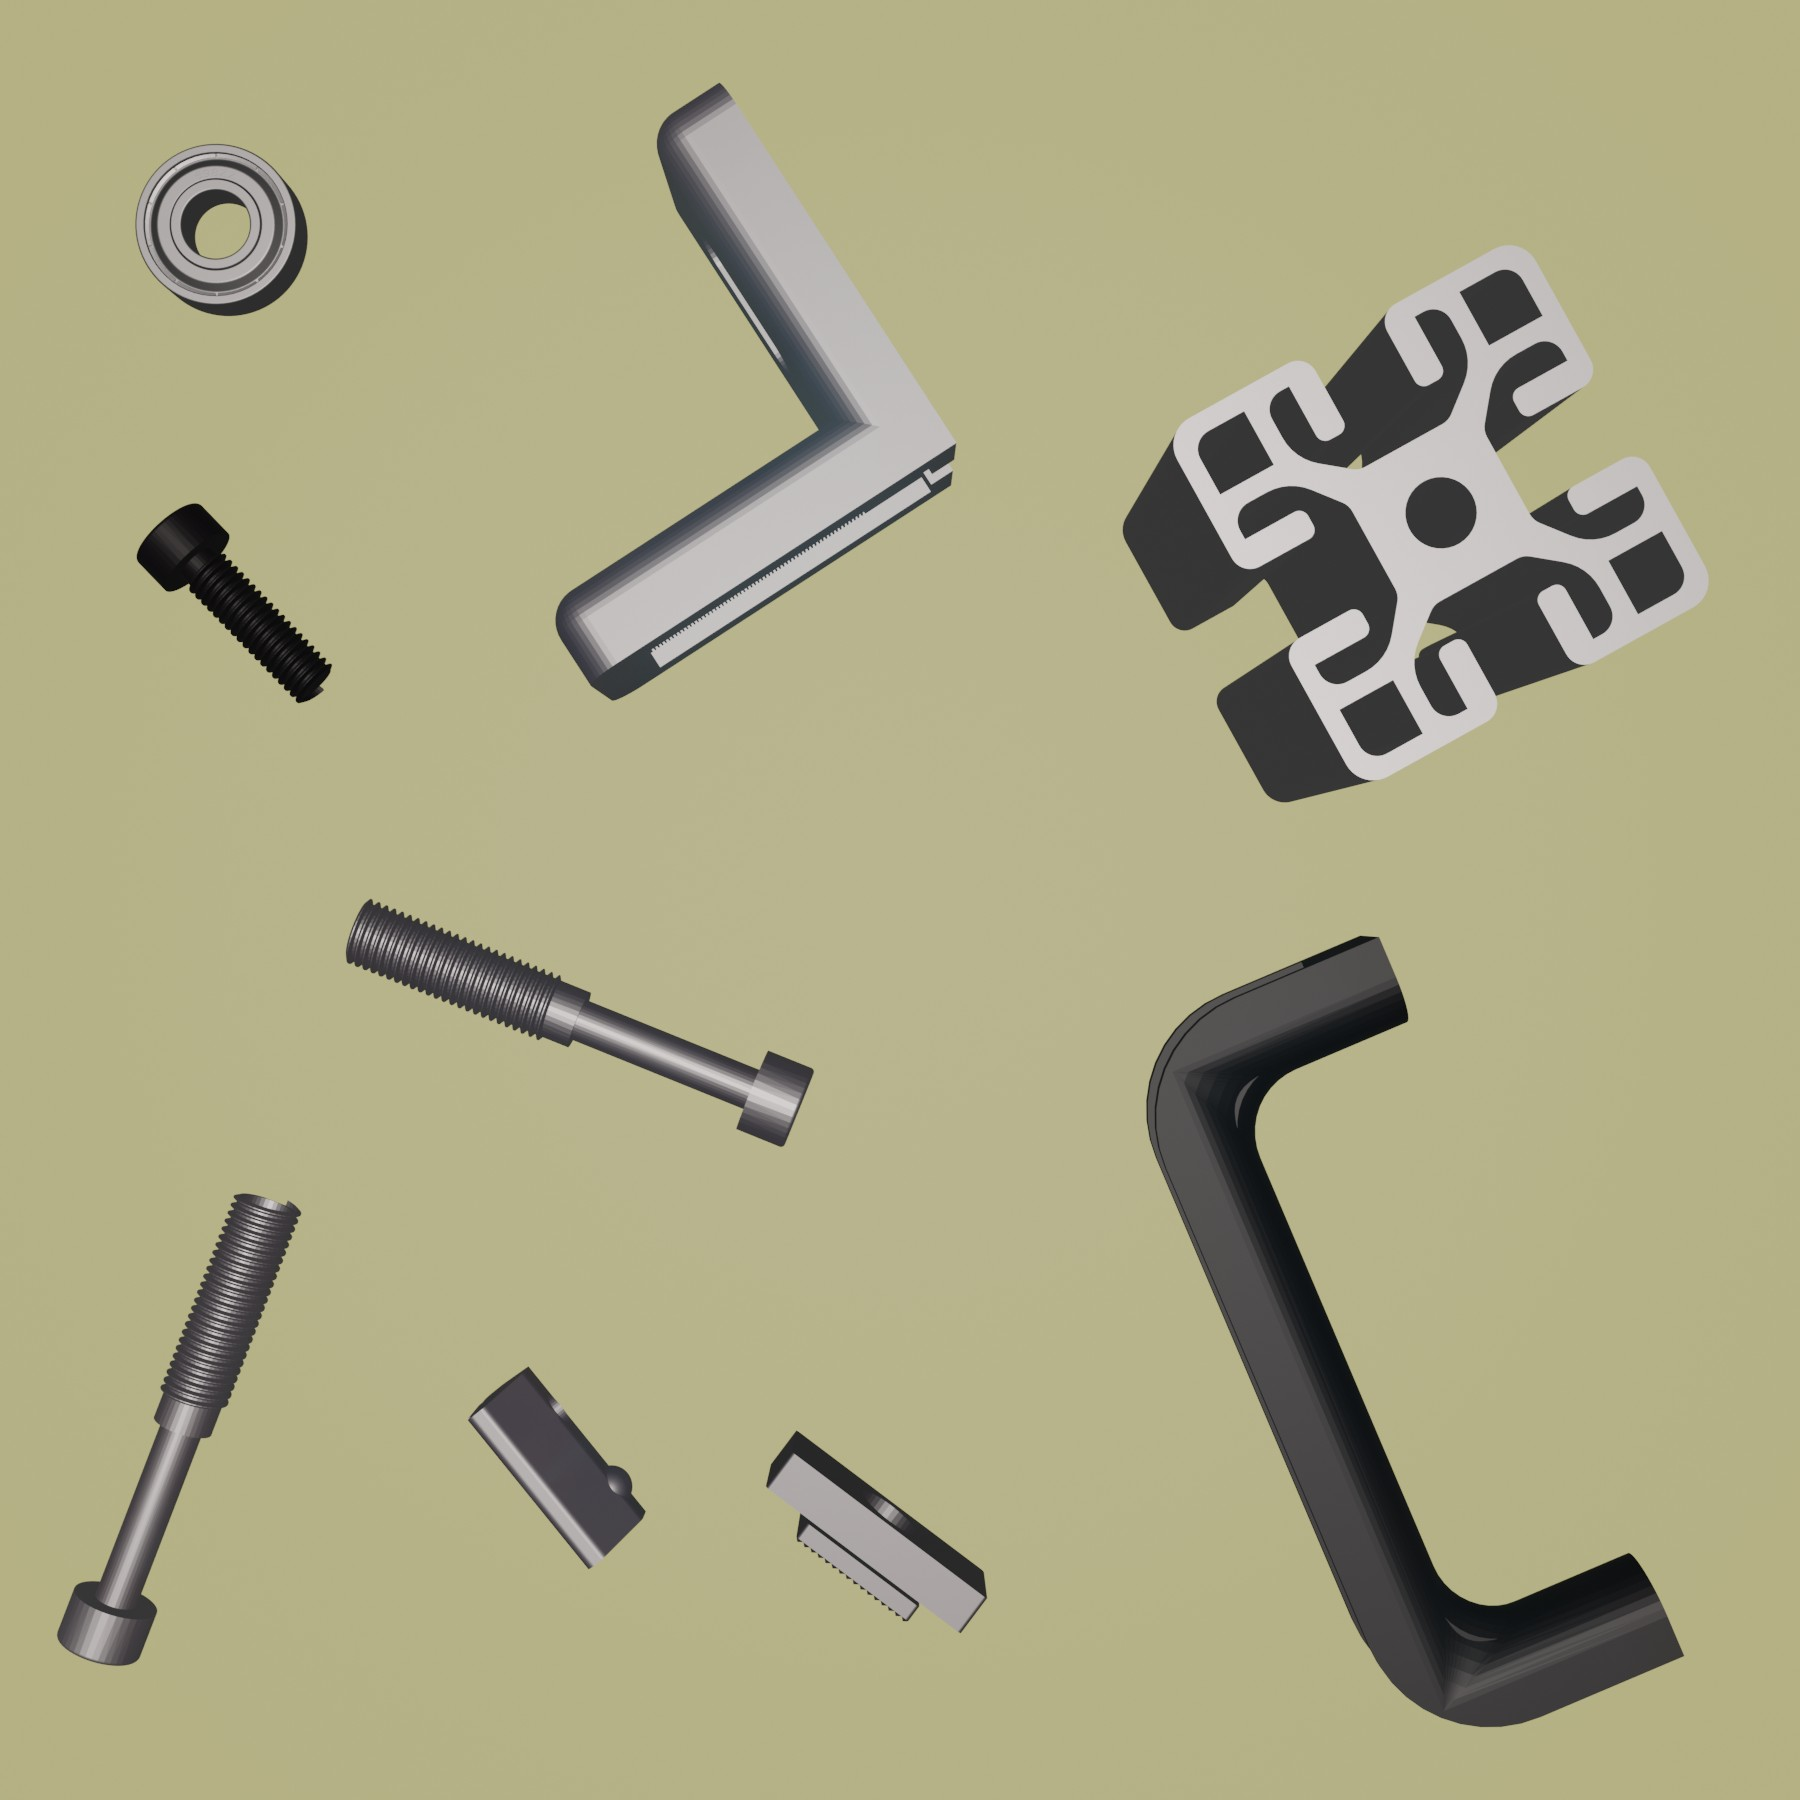Aluminium Extension: (1119, 239, 1713, 804)
Ball Bearing: (130, 138, 312, 320)
Multiwinkel: (552, 81, 958, 704)
Pull Handle: (1142, 931, 1685, 1731)
Shoulder Socket Head Cap Screw: (340, 898, 816, 1149), (56, 1188, 302, 1670)
Socket Head Cap Screw: (132, 499, 335, 710)
T Nut Square: (762, 1427, 991, 1643)
T Spring Nut: (465, 1363, 646, 1573)
